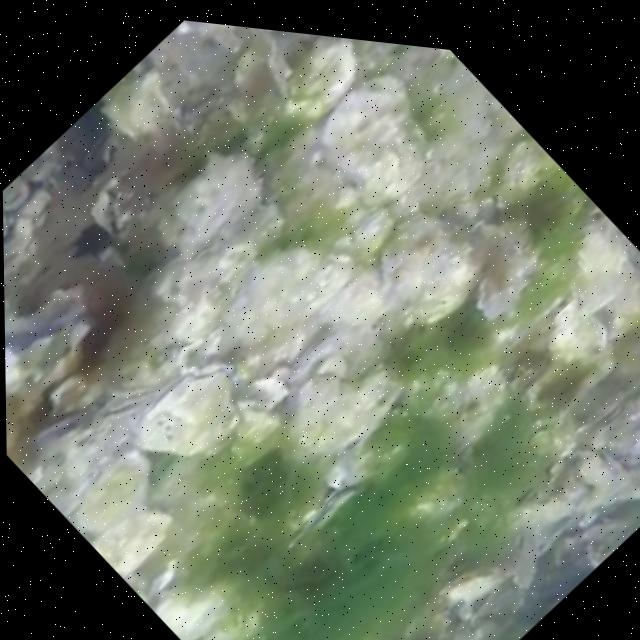Oyster-Closed: (129, 364, 234, 457), (444, 220, 523, 320), (90, 165, 150, 245), (286, 484, 357, 550), (238, 38, 288, 105), (439, 568, 502, 606), (102, 388, 151, 410)
Oyster-Indeterminate: (324, 78, 428, 207), (148, 208, 283, 305), (219, 250, 355, 345), (521, 301, 611, 430), (379, 214, 481, 322), (287, 366, 401, 454), (161, 152, 263, 248), (282, 326, 384, 399), (331, 408, 413, 488), (572, 210, 627, 316), (91, 511, 171, 579), (79, 455, 150, 530), (285, 41, 356, 114), (148, 587, 222, 640), (109, 74, 160, 135), (508, 499, 571, 533), (596, 419, 640, 457), (466, 368, 501, 412), (512, 533, 537, 588), (3, 177, 28, 210)
Oyster-Open: (5, 301, 88, 386), (32, 413, 90, 459)
